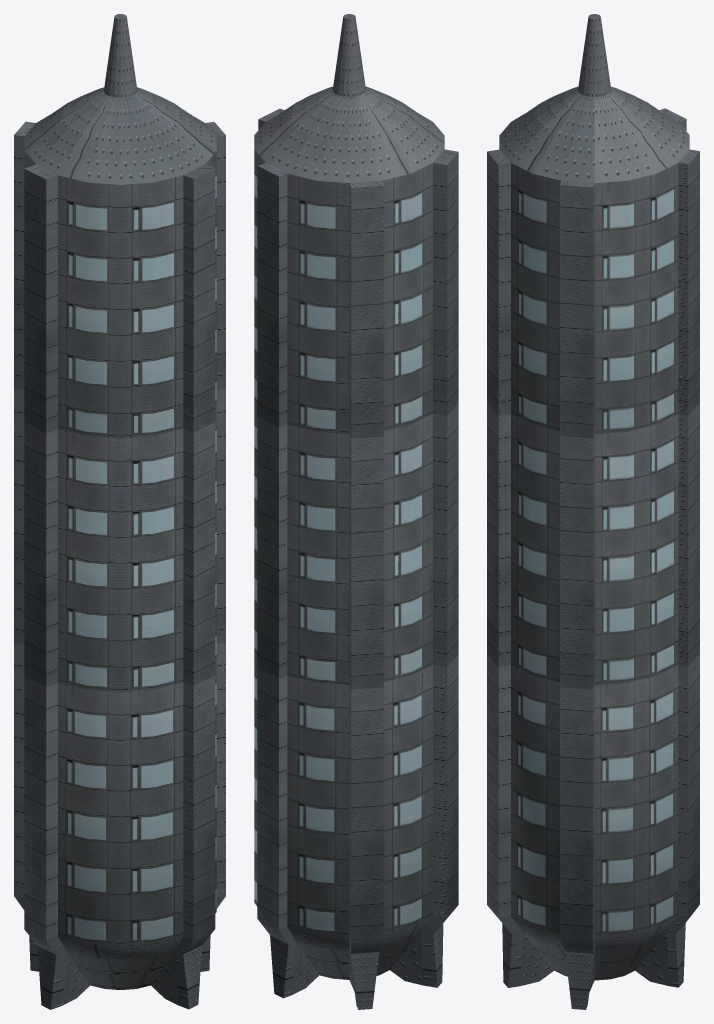
The model's file is skyscraper14.FBX.
The picture shows the model from 3 angles, left to right: view 1: azimuth 30°, elevation 25°; view 2: azimuth 150°, elevation 25°; view 3: azimuth 270°, elevation 25°; orthographic projection.
Parts seen in each view (by area): view 1: Cylinder001; view 2: Cylinder001; view 3: Cylinder001.
Part boxes in pixels (x1=…): Cylinder001: x1=14, y1=14, x2=225, y2=1009; Cylinder001: x1=254, y1=14, x2=458, y2=1009; Cylinder001: x1=487, y1=14, x2=699, y2=1009.
Size of the model in its own units: 117 by 568 by 115.
